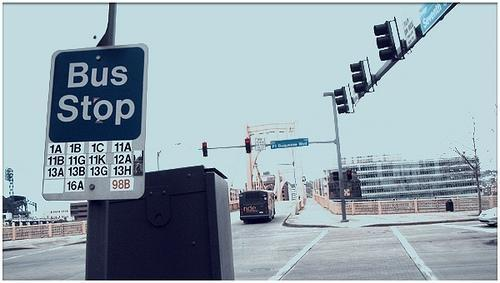bus: (238, 189, 276, 224)
car: (478, 206, 497, 227)
